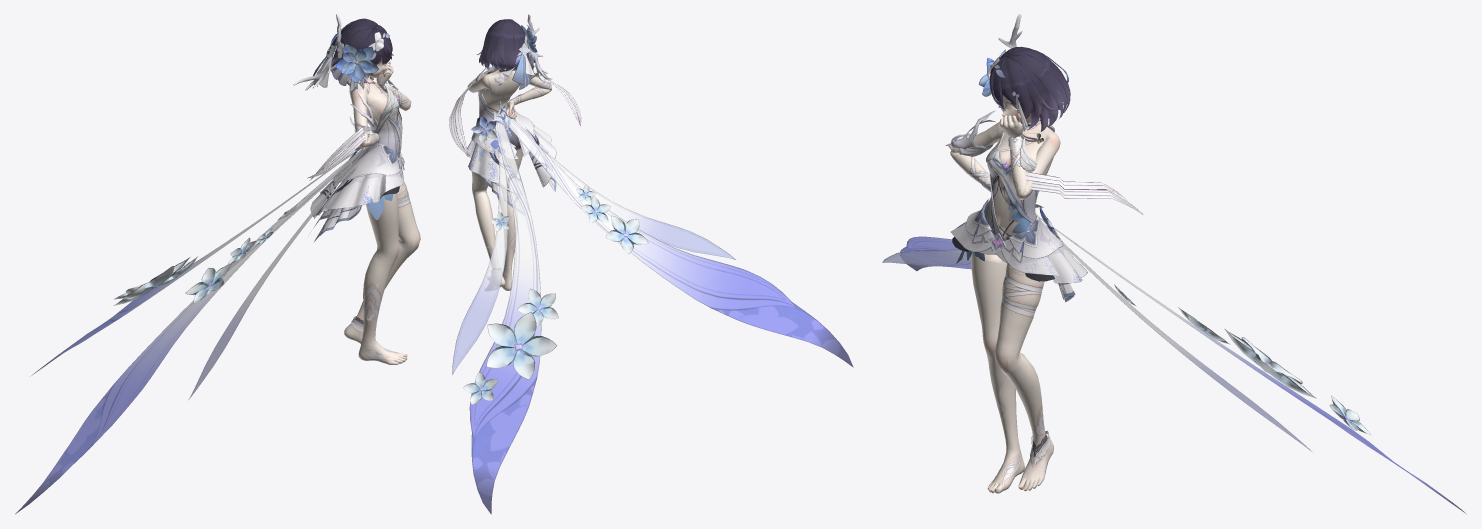
Rendered from seele_right.glb.
3 renders of one model, left to right at view 1: azimuth 30°, elevation 25°; view 2: azimuth 150°, elevation 25°; view 3: azimuth 270°, elevation 25°, orthographic. The views are drawn at different scales.
Parts seen in each view (by area): view 1: 希儿短发1.0_mesh; view 2: 希儿短发1.0_mesh; view 3: 希儿短发1.0_mesh.
Boxes of the visible parts, <box> form: 希儿短发1.0_mesh: <box>15,14,420,514</box>; 希儿短发1.0_mesh: <box>449,14,853,514</box>; 希儿短发1.0_mesh: <box>882,14,1465,513</box>.
Size of the model in its own units: 2.05 by 2.05 by 1.87.
Materials: 30 (30 with a texture image).
